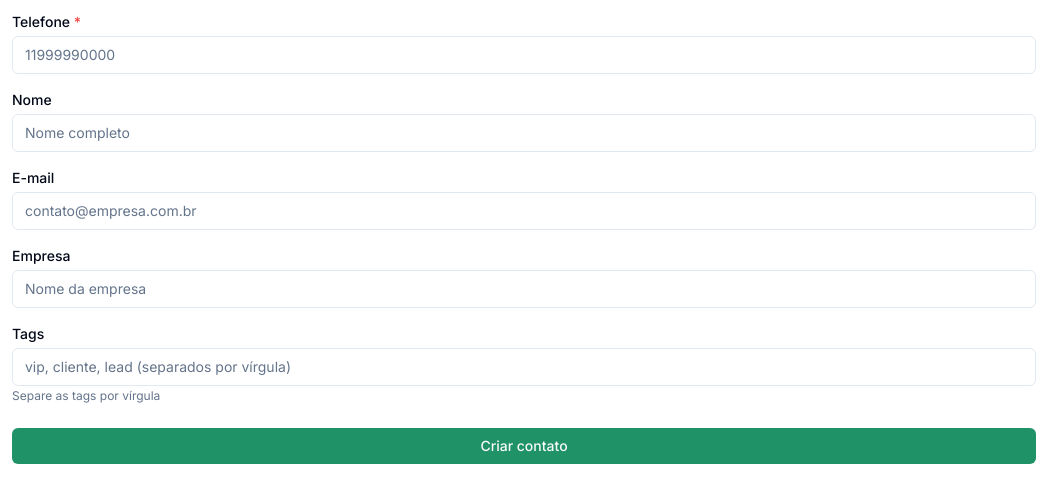
ContactForm › exibe erro quando telefone tem menos de 10 dígitos
Type "11999" into the field labelled "Telefone *" at (524, 55), box [12,36,1036,74]
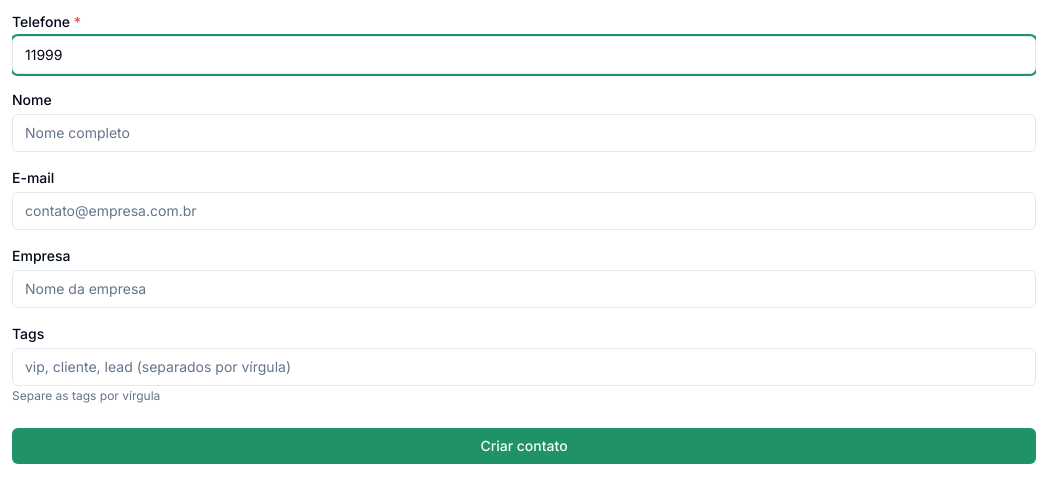
Click the button "Criar contato" at (524, 446), box [12,428,1036,464]
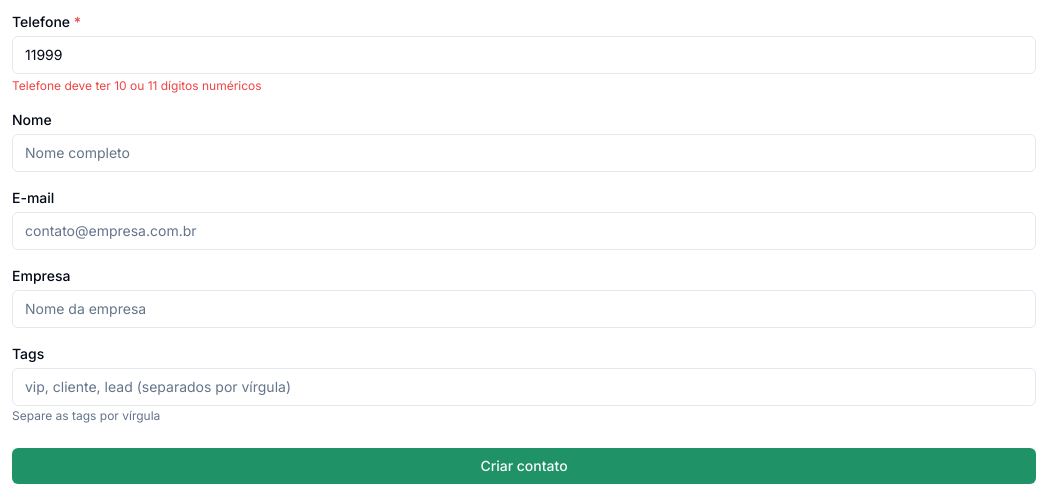
Check: the text "Telefone deve ter 10 ou 11 dígitos numéricos" is shown, box [12,78,262,93]
